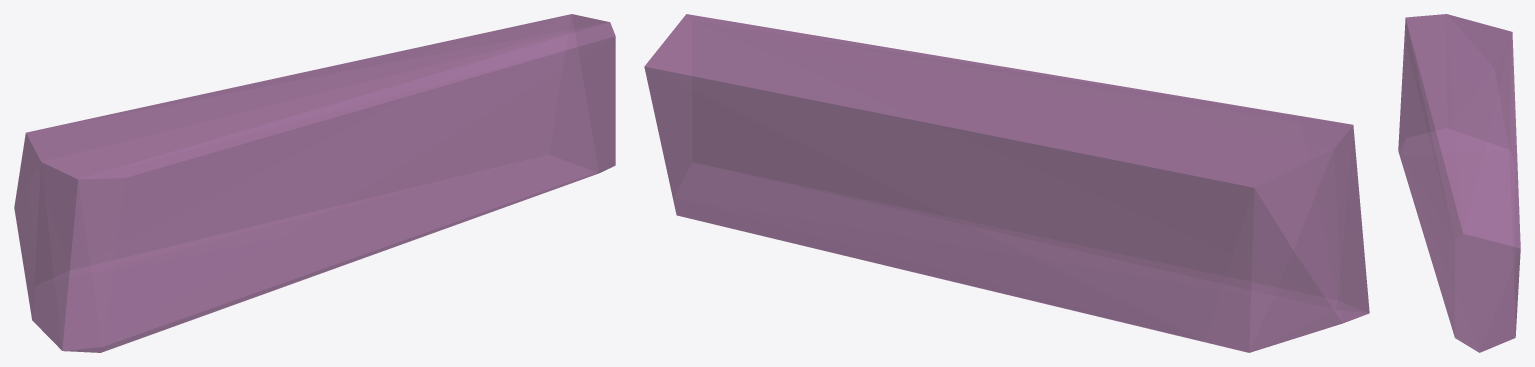
3 views of the same model, side by side, from view 1: azimuth 30°, elevation 25°; view 2: azimuth 150°, elevation 25°; view 3: azimuth 270°, elevation 25° (orthographic). The views are drawn at different scales.
Visible parts, largest first — view 1: Shape_IndexedFaceSet.024_Shape_IndexedFaceSet.11102; view 2: Shape_IndexedFaceSet.024_Shape_IndexedFaceSet.11102; view 3: Shape_IndexedFaceSet.024_Shape_IndexedFaceSet.11102.
Part boxes in pixels (left/top/right/bottom): Shape_IndexedFaceSet.024_Shape_IndexedFaceSet.11102: left=14, top=14, right=615, bottom=352; Shape_IndexedFaceSet.024_Shape_IndexedFaceSet.11102: left=644, top=14, right=1369, bottom=352; Shape_IndexedFaceSet.024_Shape_IndexedFaceSet.11102: left=1398, top=14, right=1520, bottom=352.
Bounding box in the file's own units: 0.4396 × 0.1255 × 0.1057.
